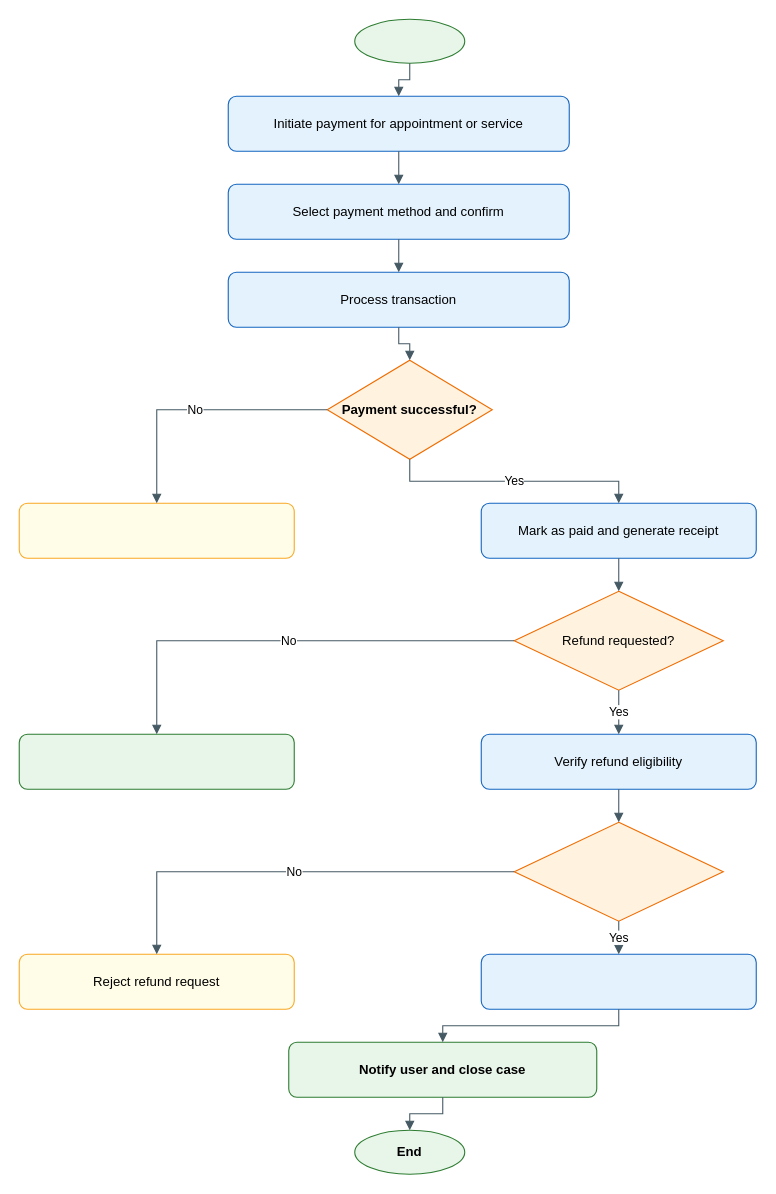
Some shapes in this 776 by 1194 pixel diagram are drawn without their labels. The shapes that lost their labels are listed below. From the top down, each one's centre as x and y in pixels, then its label:
At [409,40]: "Start".
At [156,530]: "Retry payment or change method".
At [156,761]: "Close payment flow".
At [618,871]: "Refund approved?".
At [618,981]: "Execute refund and update status".
